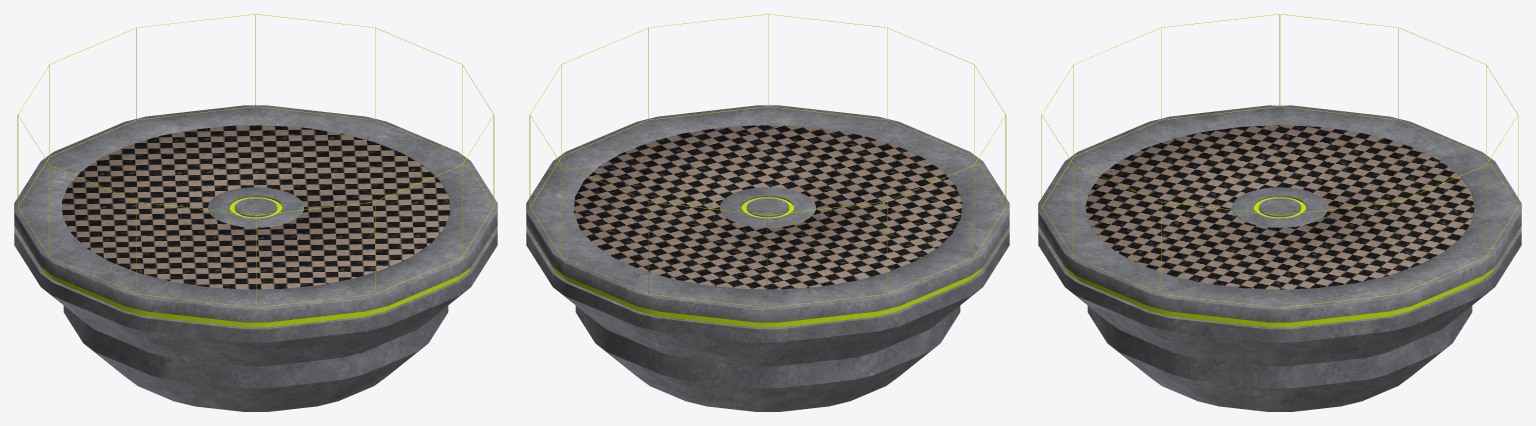
Rendered from finish_line.glb.
3 views of the same model, side by side, from view 1: azimuth 30°, elevation 25°; view 2: azimuth 150°, elevation 25°; view 3: azimuth 270°, elevation 25° (orthographic).
Visible parts, largest first — view 1: LandingPlatform, FinishOutline; view 2: LandingPlatform, FinishOutline; view 3: LandingPlatform, FinishOutline.
Part boxes in pixels (left/top/right/bottom): LandingPlatform: left=14, top=105, right=497, bottom=411; FinishOutline: left=17, top=14, right=494, bottom=307; LandingPlatform: left=526, top=105, right=1009, bottom=411; FinishOutline: left=529, top=14, right=1006, bottom=307; LandingPlatform: left=1038, top=105, right=1521, bottom=411; FinishOutline: left=1041, top=14, right=1518, bottom=307.
Size of the model in its own units: 29.61 by 17.51 by 29.61.
4 materials, 2 textured.
